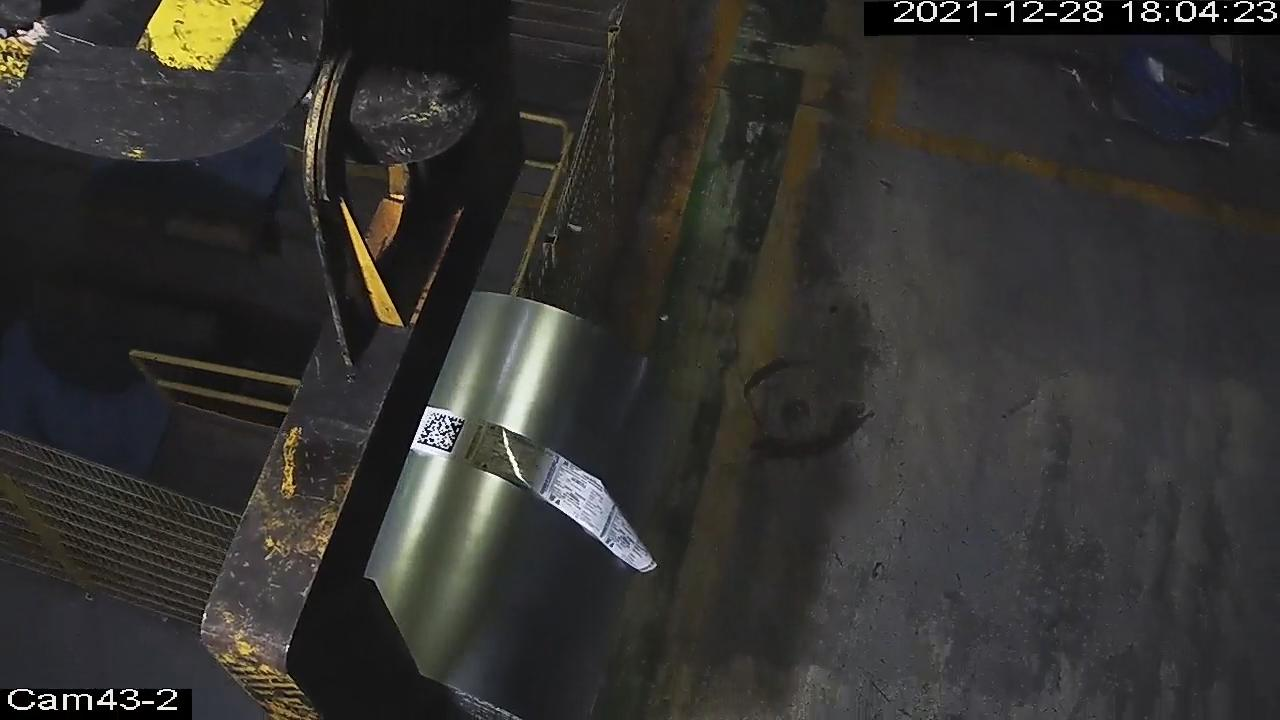data matrix: (415, 411, 469, 457)
